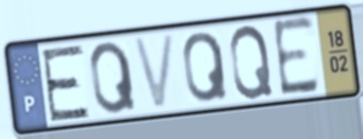E: (269, 13, 323, 102), (39, 41, 92, 125)
Q: (87, 38, 139, 117), (227, 22, 276, 103), (181, 29, 231, 106)
V: (129, 29, 178, 113)
